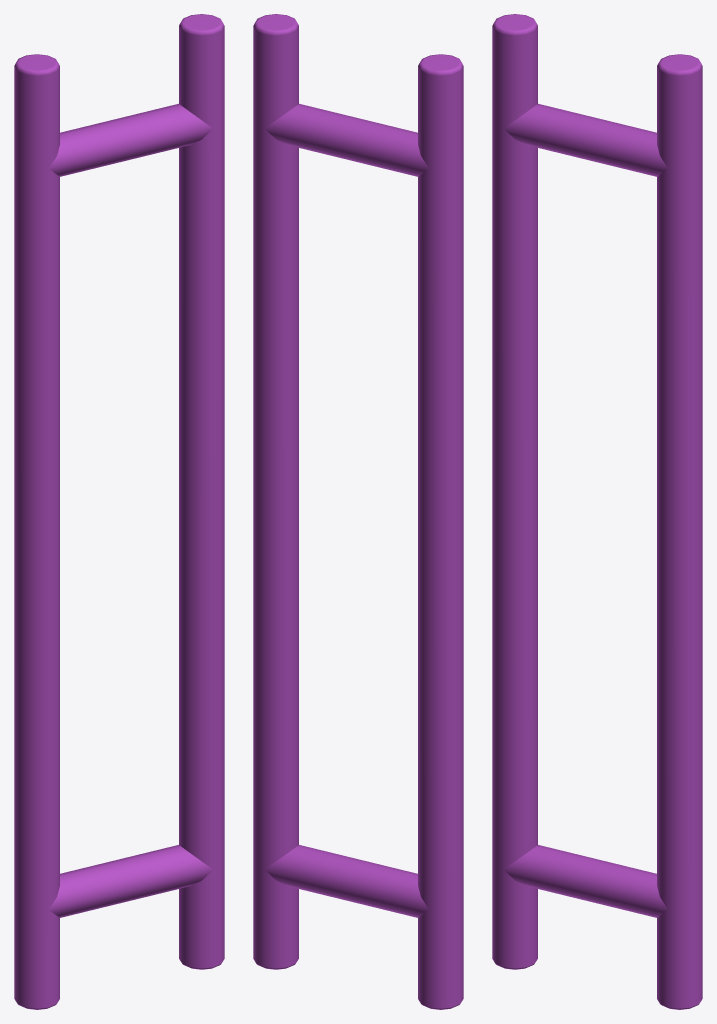
The model's file is Handle.fbx.
The picture shows the model from 3 angles, left to right: view 1: azimuth 30°, elevation 25°; view 2: azimuth 150°, elevation 25°; view 3: azimuth 330°, elevation 25°; orthographic projection.
Visible parts, largest first — view 1: polySurface27; view 2: polySurface27; view 3: polySurface27.
Part boxes in pixels (box(x1,y1,x2,y2)): polySurface27: box(14, 14, 224, 1009); polySurface27: box(253, 14, 463, 1009); polySurface27: box(492, 14, 702, 1009).
Bounding box in the file's own units: 0.0927 × 0.4068 × 0.0182.
